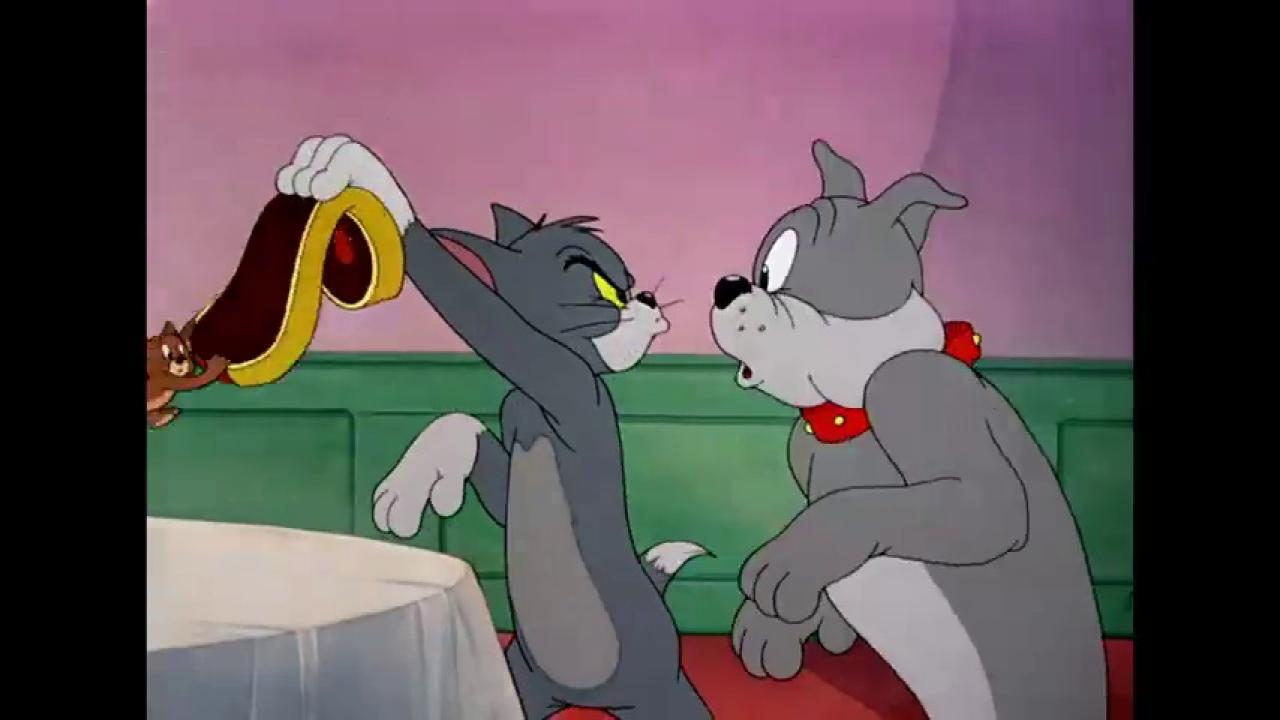Tom: (275, 133, 717, 720)
